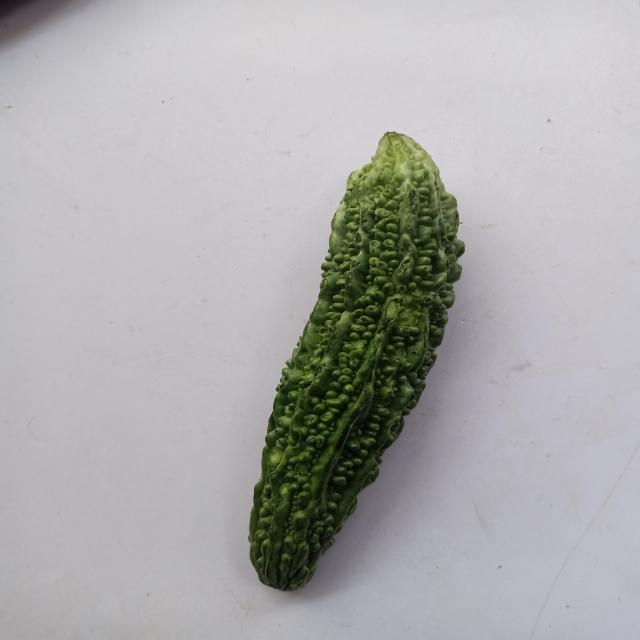Bitter Gourd: (205, 102, 521, 608)
